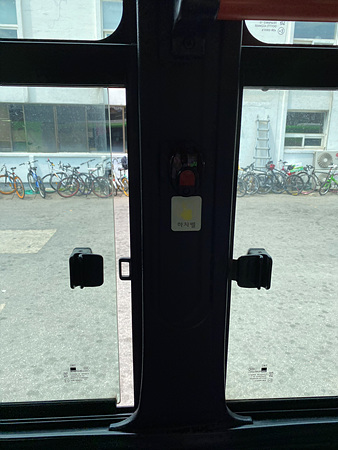bell: (168, 140, 206, 195)
